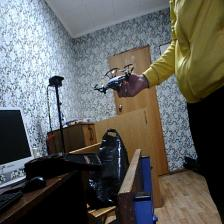drone: (90, 63, 138, 97)
